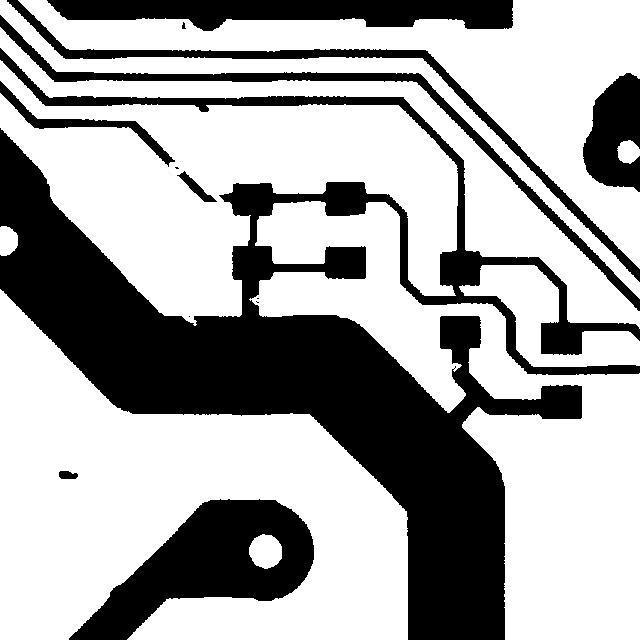copper: (49, 461, 87, 488)
mousebite: (170, 303, 206, 335), (239, 285, 269, 315), (440, 353, 471, 381)
open: (196, 177, 235, 216), (159, 152, 193, 184)
short: (238, 204, 268, 258), (443, 272, 473, 306)
spur: (185, 91, 218, 121)
